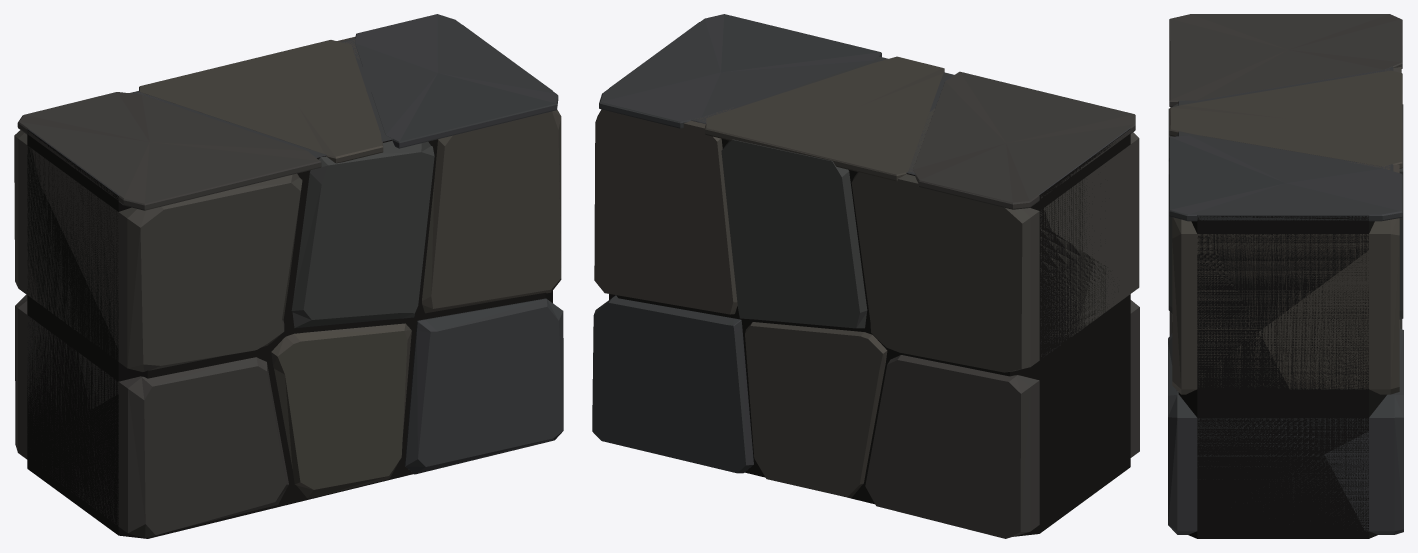
The model's file is Wall_Low_2m.fbx.
3 views of the same model, side by side, from view 1: azimuth 30°, elevation 25°; view 2: azimuth 150°, elevation 25°; view 3: azimuth 270°, elevation 25° (orthographic). The views are drawn at different scales.
Visible parts, largest first — view 1: Wall_Low_2m; view 2: Wall_Low_2m; view 3: Wall_Low_2m.
Part boxes in pixels (x1,y1,x2,y2): Wall_Low_2m: (14,14,563,538); Wall_Low_2m: (592,14,1139,538); Wall_Low_2m: (1168,14,1403,538).
Bounding box in the file's own units: 2 × 1.5 × 0.9899.
Materials: 1 (1 with a texture image).
